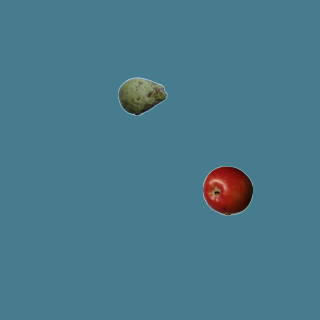Apple Braeburn: (202, 165, 252, 215)
Pear Stone: (117, 71, 167, 121)
